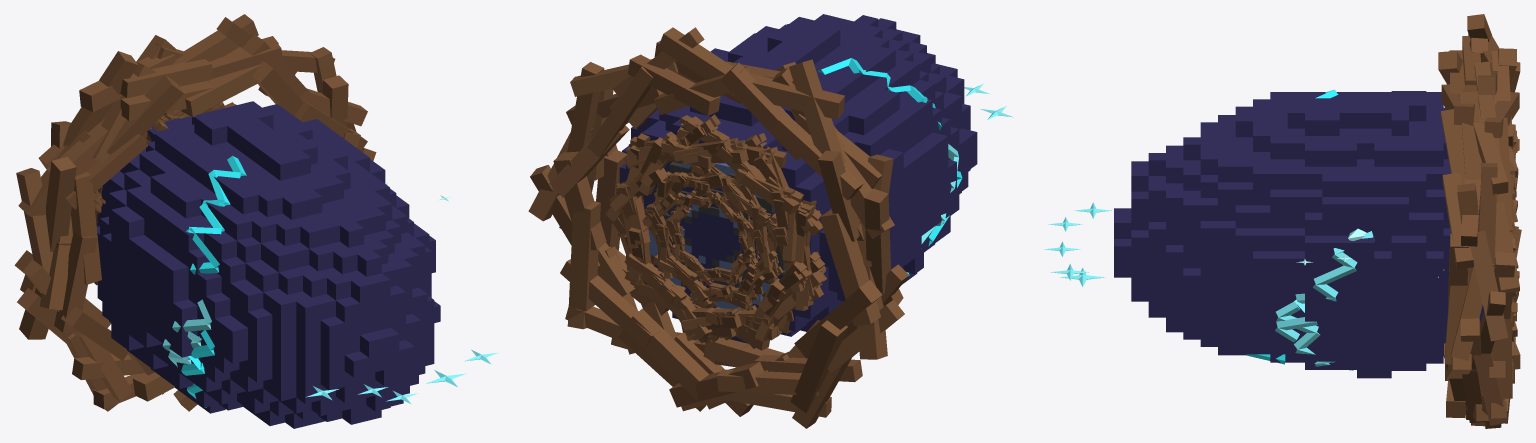
File: Geodas_Zona5.fbx
3 renders of one model, left to right at view 1: azimuth 30°, elevation 25°; view 2: azimuth 150°, elevation 25°; view 3: azimuth 270°, elevation 25°, orthographic. The views are drawn at different scales.
Visible parts, largest first — view 1: Roca.003, Base.003, Grietas2.003, Grietas.003, Cristales.003; view 2: Base.003, Roca.003, Base.015, Base.006, Base.009, Base.002, Base.012, Roca, Base.001, Base.014, Base.005, Base.011 (+10 smaller); view 3: Roca.003, Base.003, Grietas.003, Cristales.003, Base.015.
Boxes of the visible parts, x1,y1,x2,y2 form: Roca.003: [96, 101, 440, 428]; Base.003: [14, 14, 376, 411]; Grietas2.003: [181, 155, 246, 407]; Grietas.003: [162, 299, 211, 367]; Cristales.003: [306, 349, 498, 404]; Base.003: [528, 27, 909, 428]; Roca.003: [610, 14, 977, 343]; Base.015: [620, 117, 825, 350]; Base.006: [605, 116, 826, 348]; Base.009: [609, 119, 824, 340]; Base.002: [606, 115, 825, 343]; Base.012: [609, 114, 821, 343]; Roca: [684, 212, 741, 265]; Base.001: [643, 165, 776, 309]; Base.014: [644, 168, 777, 308]; Base.005: [644, 166, 784, 307]; Base.011: [651, 165, 779, 302]; Roca.003: [1114, 91, 1484, 378]; Base.003: [1438, 14, 1521, 428]; Grietas.003: [1275, 231, 1374, 370]; Cristales.003: [1044, 202, 1111, 287]; Base.015: [1480, 124, 1519, 351].
Bounding box in the file's own units: 4.38 × 4.39 × 5.15.
